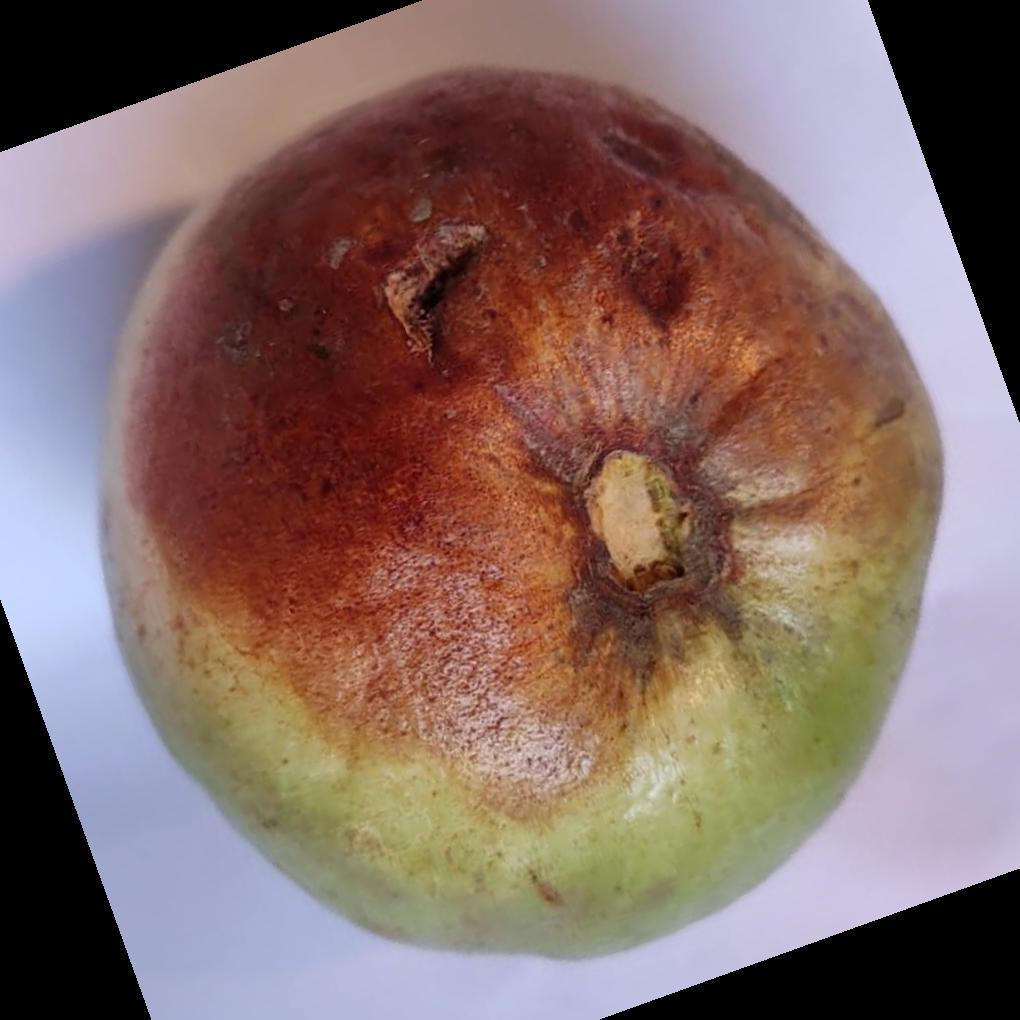FreshOrange: (96, 68, 945, 964)
